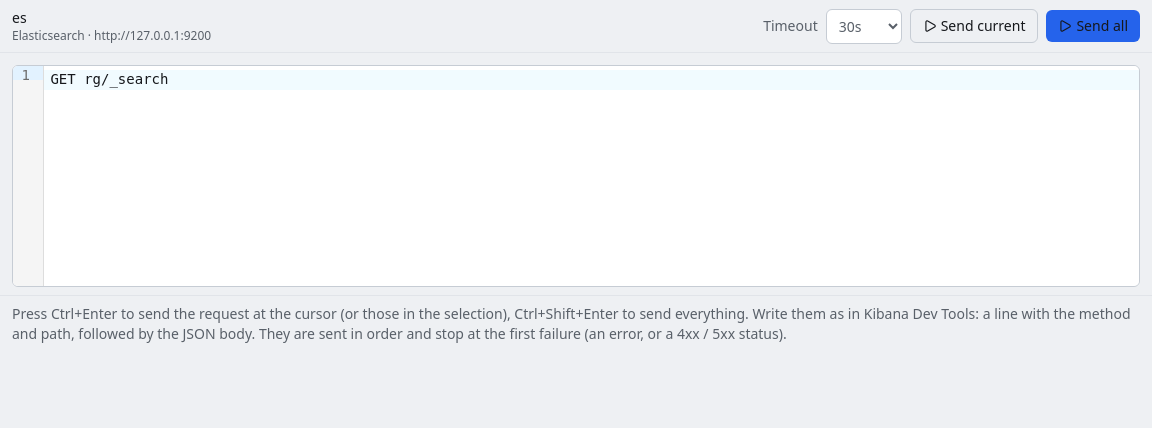
Test: EsConsole › 只命中一份时写「1 hit」
Click the button "Send all" at (1093, 26), box [1046,10,1140,42]
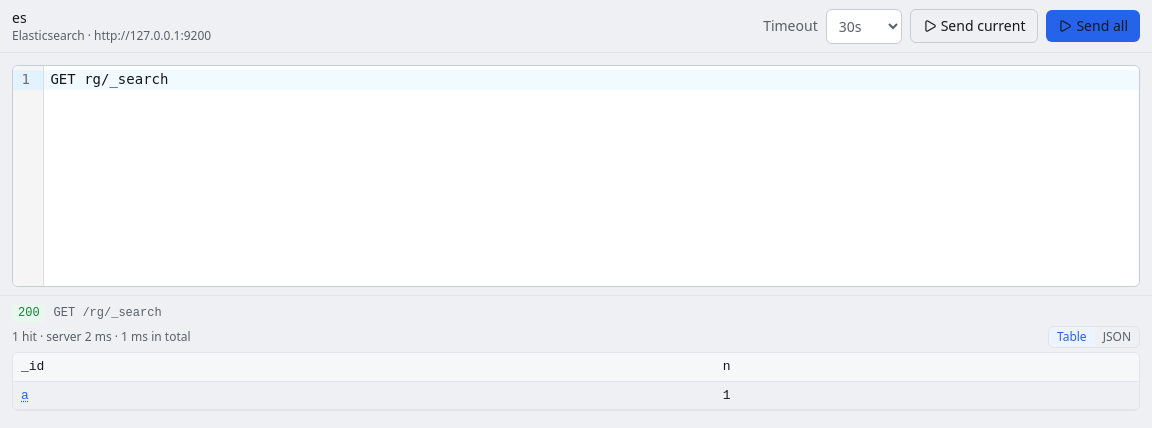
Expected: the text "1 hit ·" is shown, [12,328,191,345]
